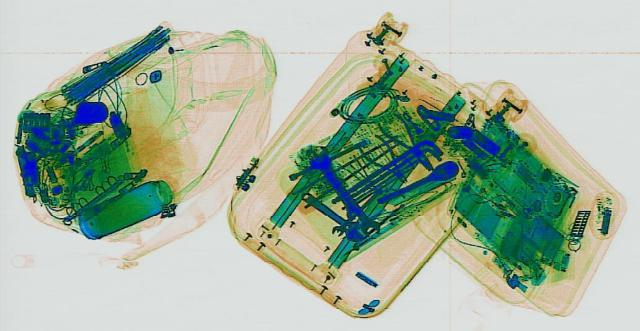Pliers: (366, 111, 450, 172), (344, 132, 422, 185)
Wrench: (294, 144, 386, 235), (288, 189, 374, 241)
